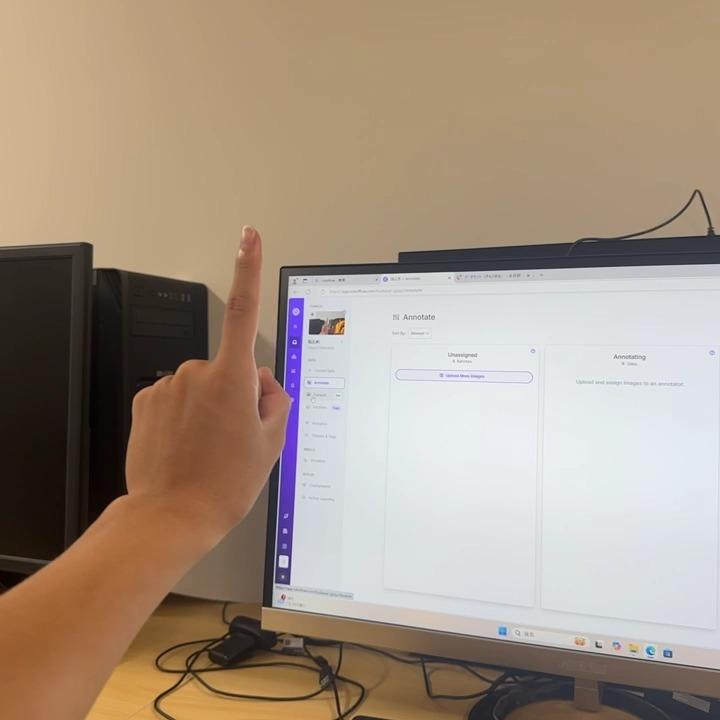without_gloves: (59, 148, 389, 591)
